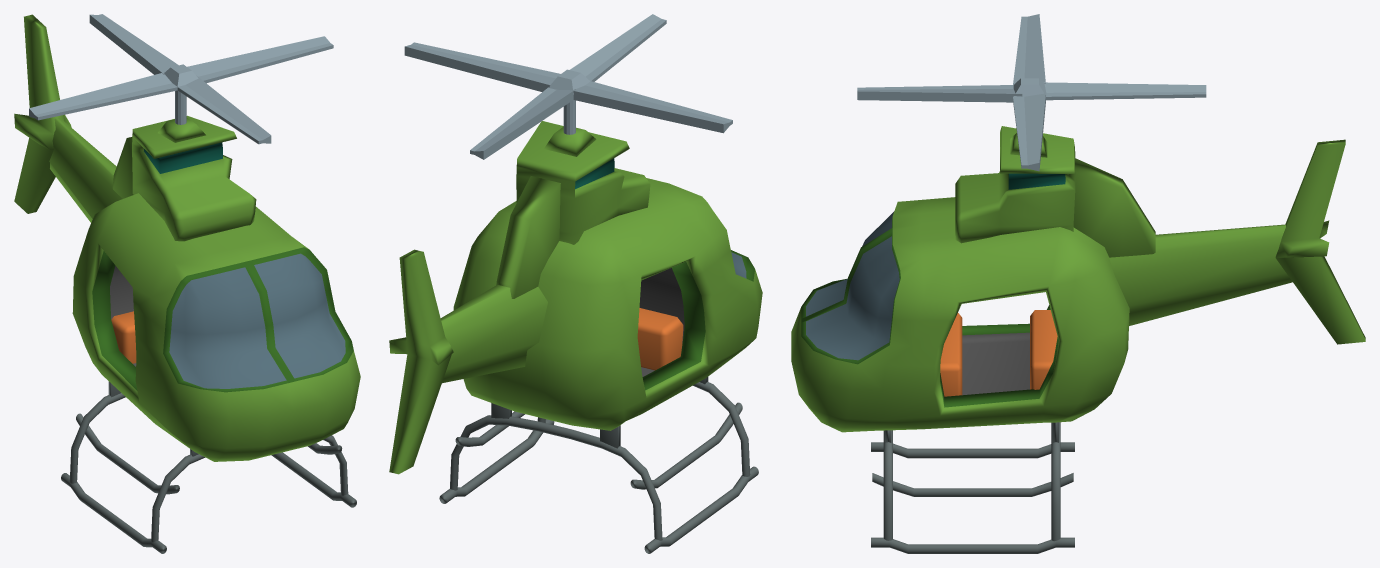
The model's file is _elicopter.fbx.
3 renders of one model, left to right at view 1: azimuth 30°, elevation 25°; view 2: azimuth 150°, elevation 25°; view 3: azimuth 270°, elevation 25°, orthographic. The views are drawn at different scales.
Visible parts, largest first — view 1: helicopter; view 2: helicopter; view 3: helicopter.
Part boxes in pixels (x1,y1,x2,y2): helicopter: [14, 14, 360, 553]; helicopter: [389, 14, 762, 553]; helicopter: [791, 14, 1365, 553].
Bounding box in the file's own units: 38.92 × 51.78 × 63.47.
